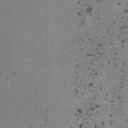oxide scale of temperature system: (74, 72, 100, 128), (78, 36, 104, 57), (106, 22, 128, 44), (77, 6, 92, 26), (116, 82, 124, 113), (109, 120, 114, 126), (44, 116, 48, 122)
